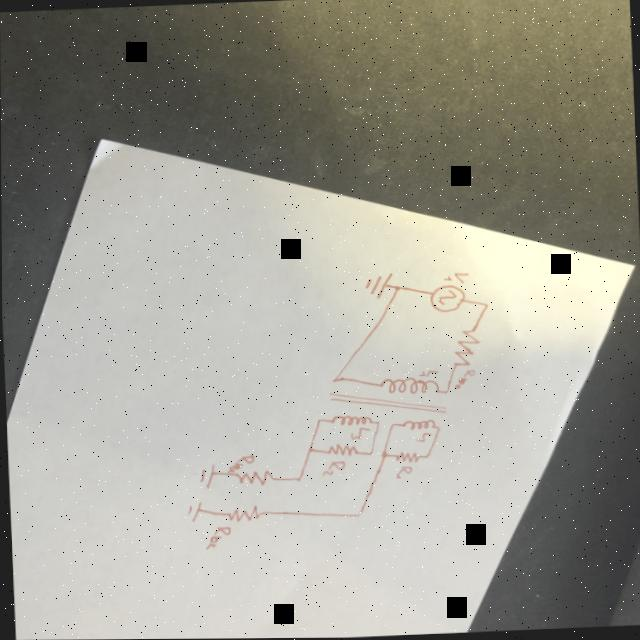ground: (363, 271, 394, 298), (198, 462, 218, 489), (184, 499, 203, 522)
junction: (353, 509, 364, 517), (306, 444, 315, 452), (328, 376, 338, 382), (378, 451, 388, 457), (481, 302, 489, 308), (393, 284, 401, 290), (314, 416, 322, 422), (293, 475, 301, 481), (422, 453, 430, 459), (441, 387, 449, 393), (374, 419, 382, 425), (387, 421, 395, 427), (435, 425, 443, 431), (365, 450, 373, 455)
resistor: (449, 327, 480, 366), (224, 502, 265, 522), (234, 468, 277, 486), (326, 441, 360, 457), (394, 450, 422, 463)
source: (428, 283, 466, 313)
text: (202, 524, 231, 550), (225, 452, 256, 473), (452, 368, 477, 389), (319, 459, 346, 476), (441, 270, 469, 284), (349, 425, 371, 440), (394, 464, 413, 479), (414, 430, 432, 443), (417, 368, 439, 378)
transformer: (328, 374, 442, 434)
